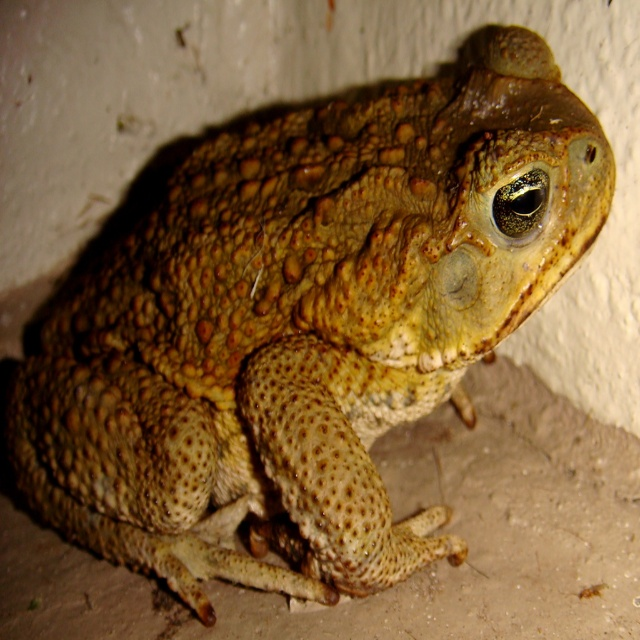Frog: (0, 24, 616, 631)
